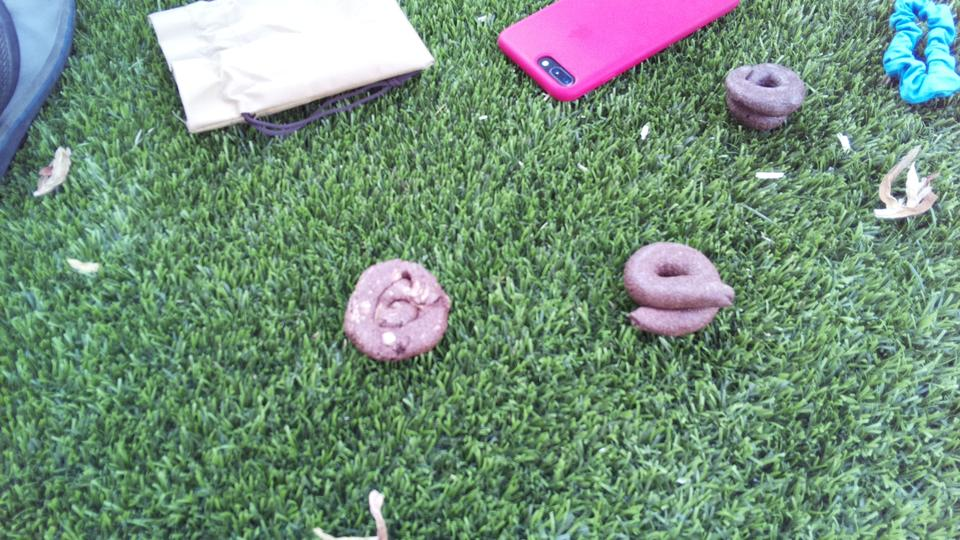poop: (330, 254, 457, 368), (608, 237, 739, 342), (713, 56, 810, 139)
